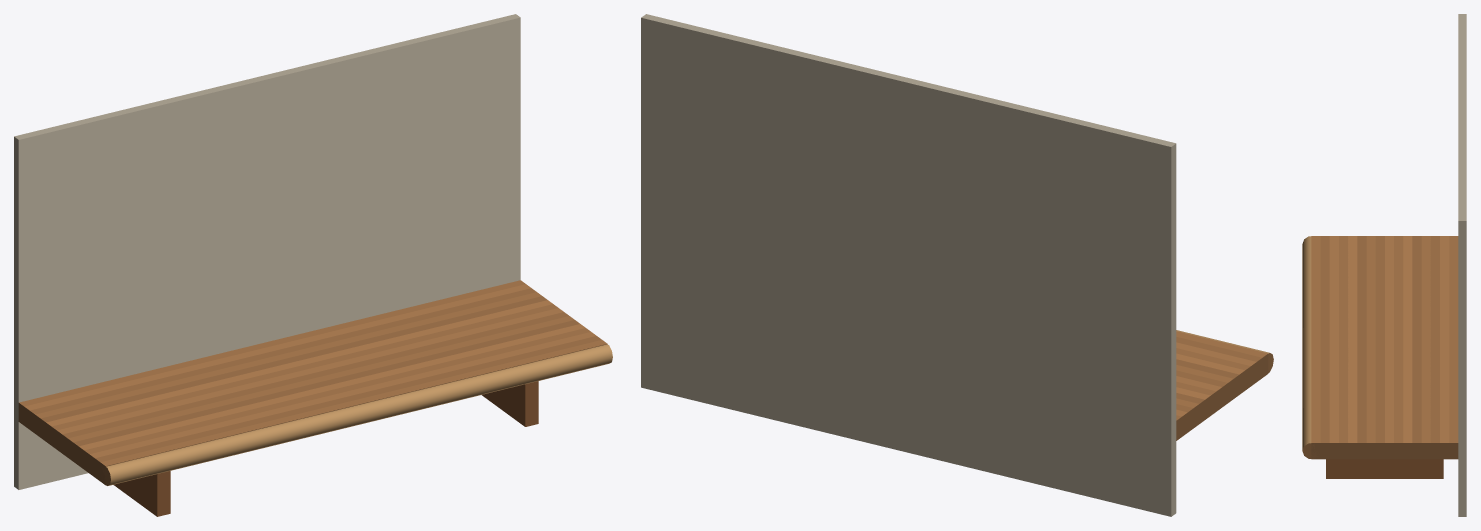
File: shelf.glb
The picture shows the model from 3 angles, left to right: view 1: azimuth 30°, elevation 25°; view 2: azimuth 150°, elevation 25°; view 3: azimuth 270°, elevation 25°; orthographic projection. The views are drawn at different scales.
Visible parts, largest first — view 1: body; view 2: body; view 3: body.
Part boxes in pixels (x1,y1,x2,y2): body: (14,14,612,516); body: (641,14,1273,516); body: (1302,14,1466,516).
Size of the model in its own units: 60 by 40 by 20.1.
